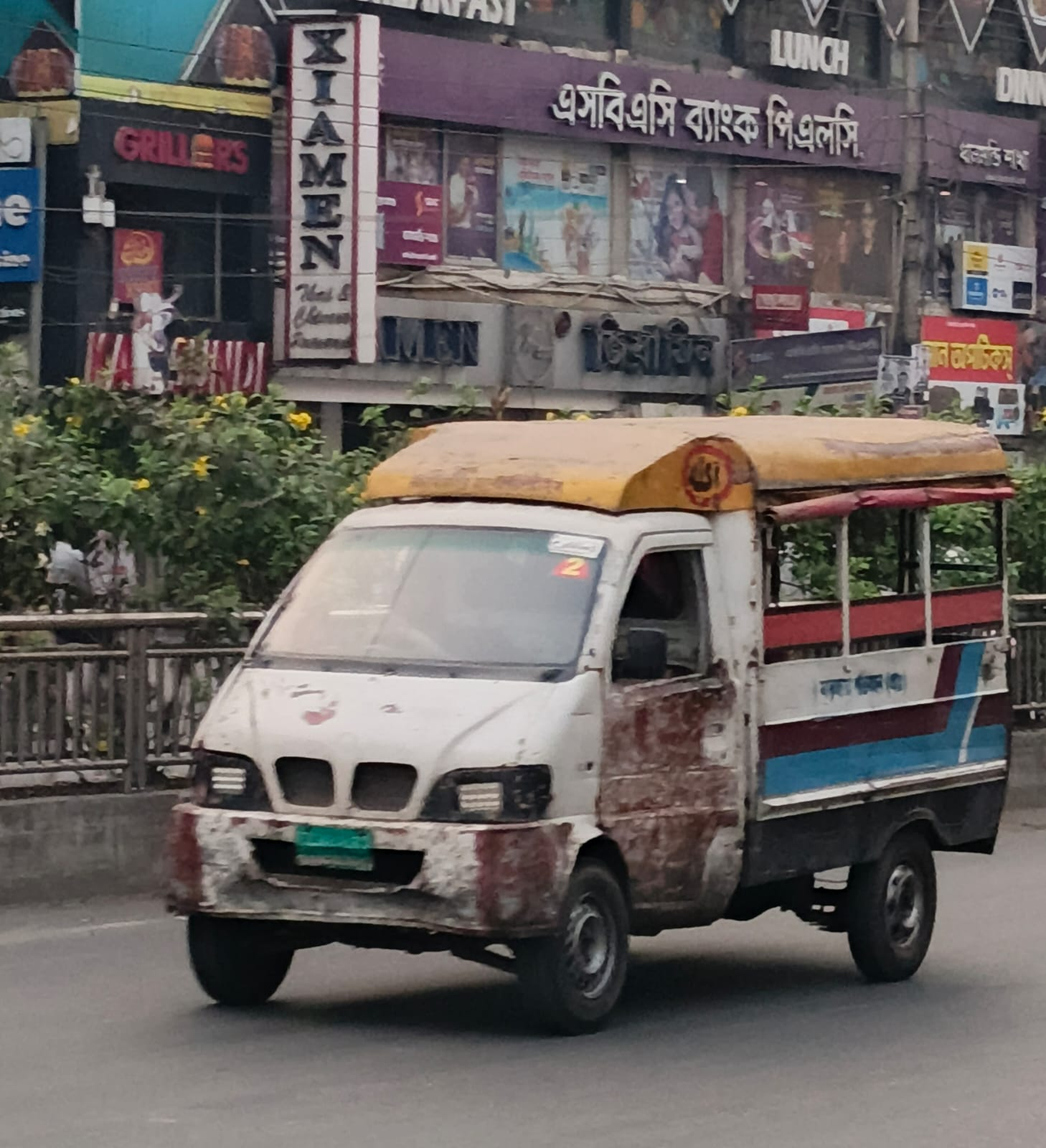Leguna: (167, 354, 1046, 1097)
